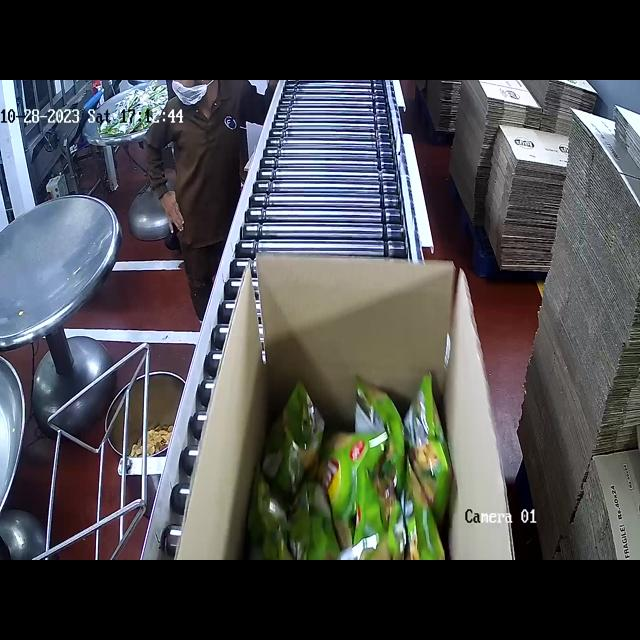yogurt: (246, 370, 453, 558)
